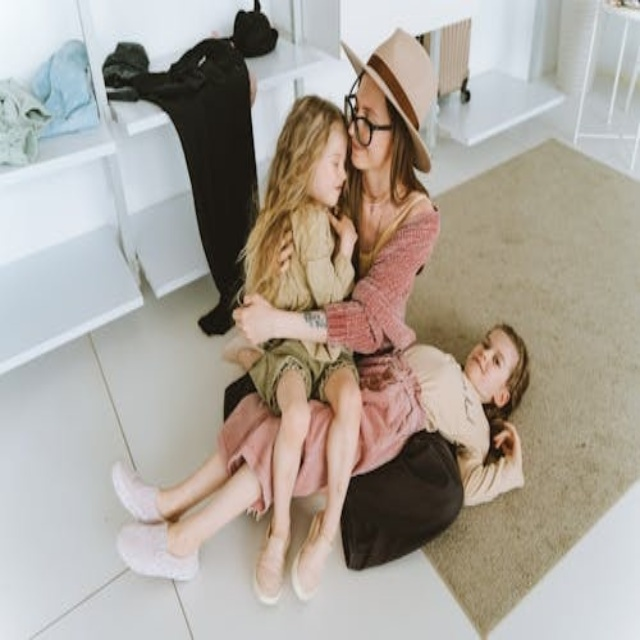Gafas: (345, 74, 395, 147)
Sin_gafas: (483, 329, 509, 377)
Sin_guantes: (233, 288, 280, 350)
Sin_mascara: (471, 346, 485, 377)
